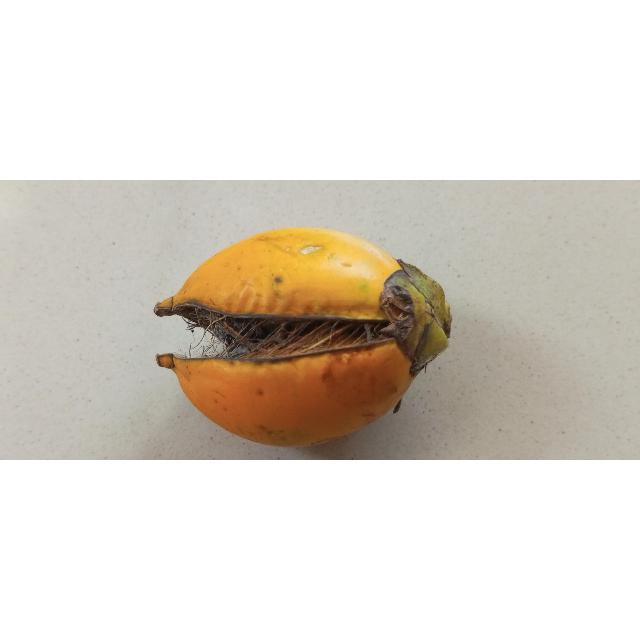damaged: (153, 228, 454, 448)
